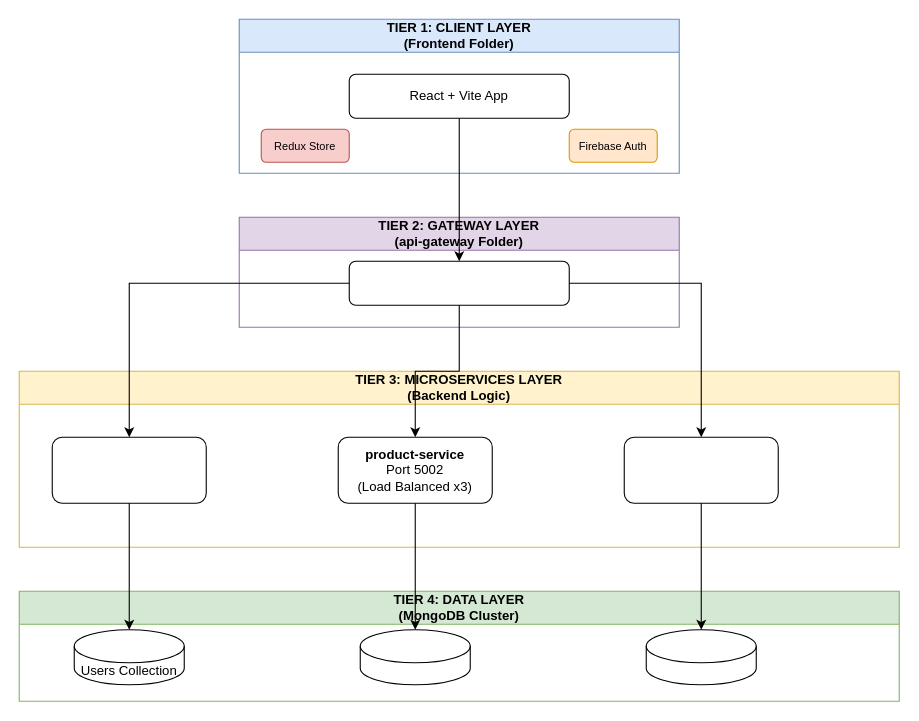
Image size: 919x721. Some labels were removed from this diagram. The centre of each missing label's shape, as x and y in pixels:
"auth-service Port 5001" belongs at [128,469].
"Books Collection" belongs at [414,657].
"Express Proxy (index.js)" belongs at [458,282].
"order-service Port 5003" belongs at [700,469].
"Orders Collection" belongs at [700,657].
